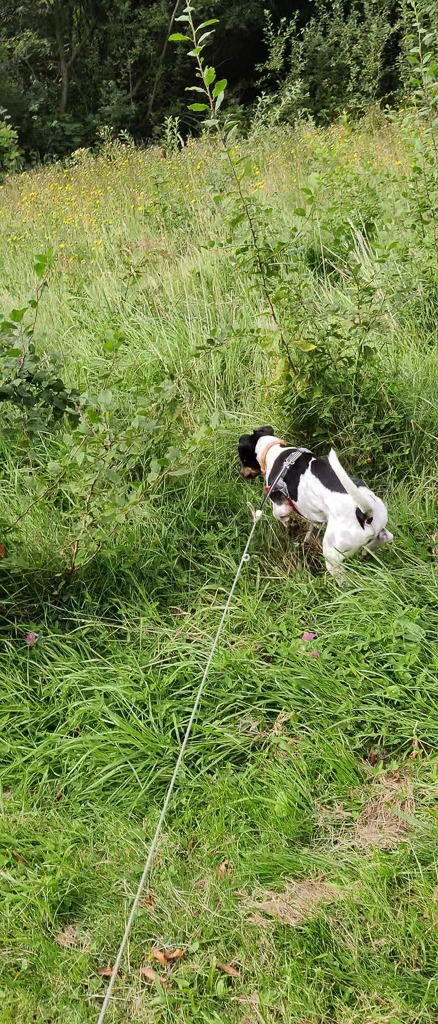Dog: (198, 391, 416, 603)
